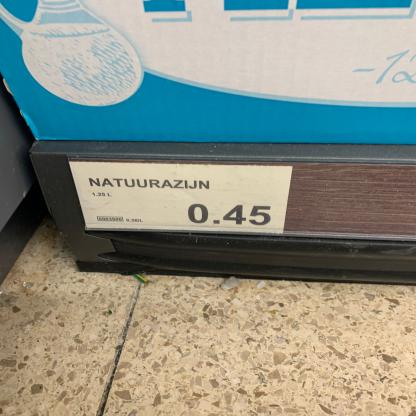prtg: (70, 163, 293, 235)
